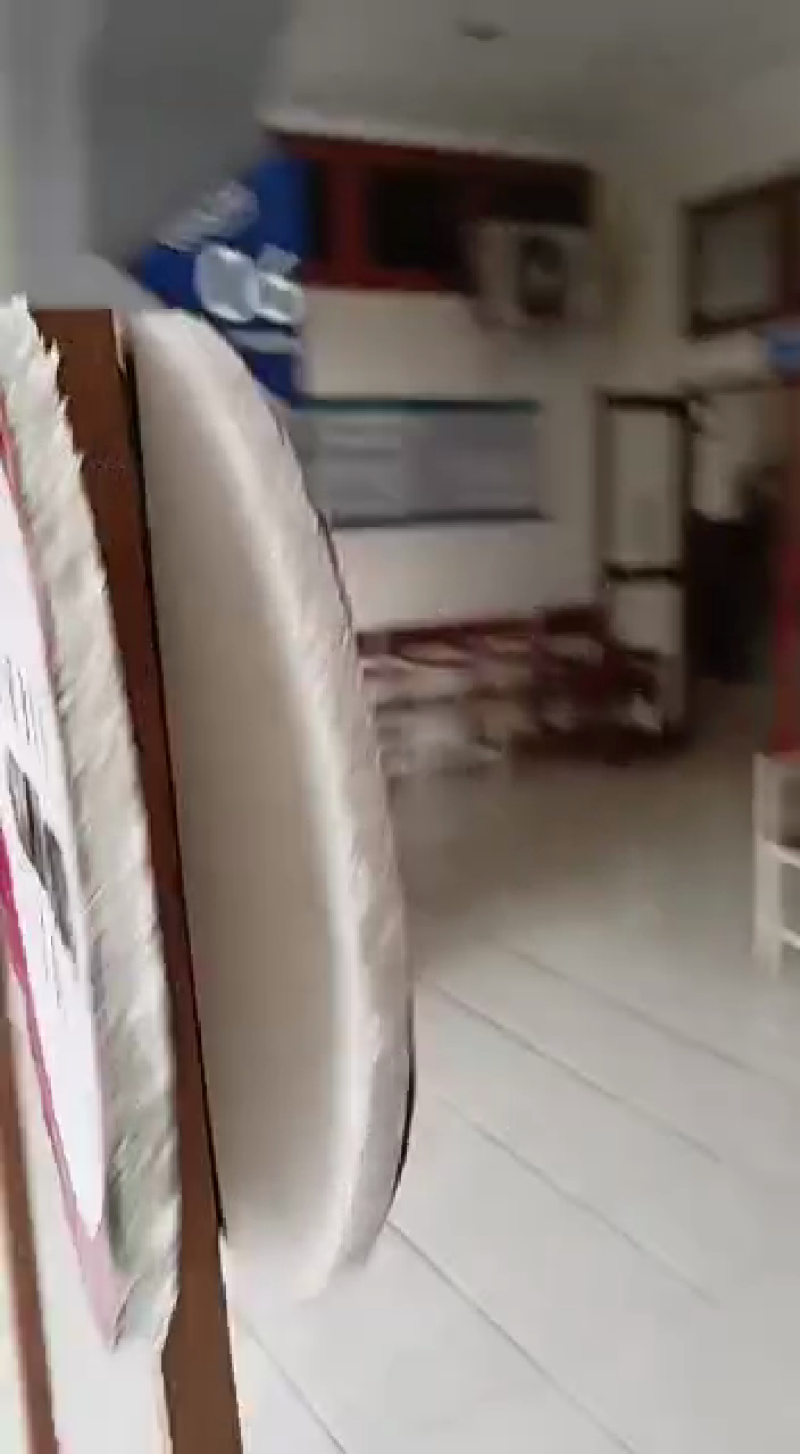gerbang tol: (1, 270, 198, 1353)
